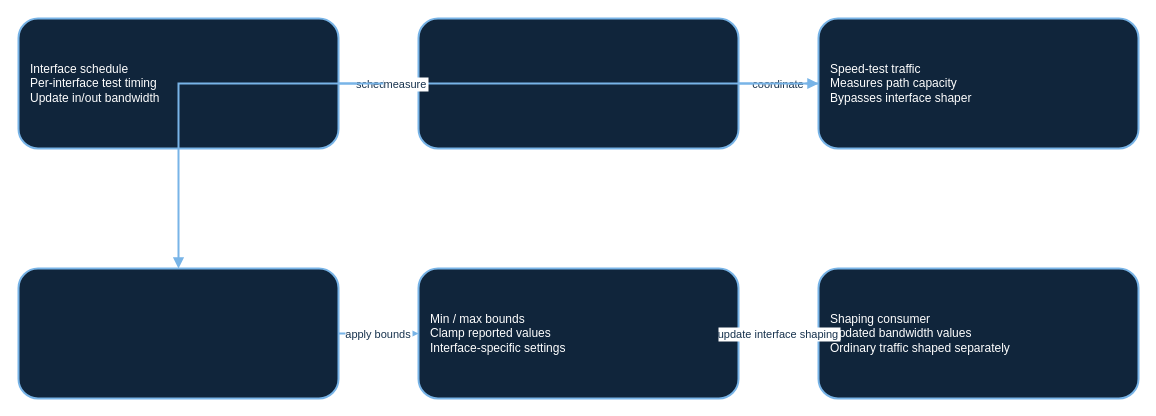
Image size: 1156x416. Some labels were removed from this diagram. The centre of each missing label's shape, as x and y in pixels:
"Backend coordinator Coordinates test session Retry timing is backend-managed" belongs at (578,83).
"Measured result Raw bandwidth sample Not application throughput" belongs at (178,333).
